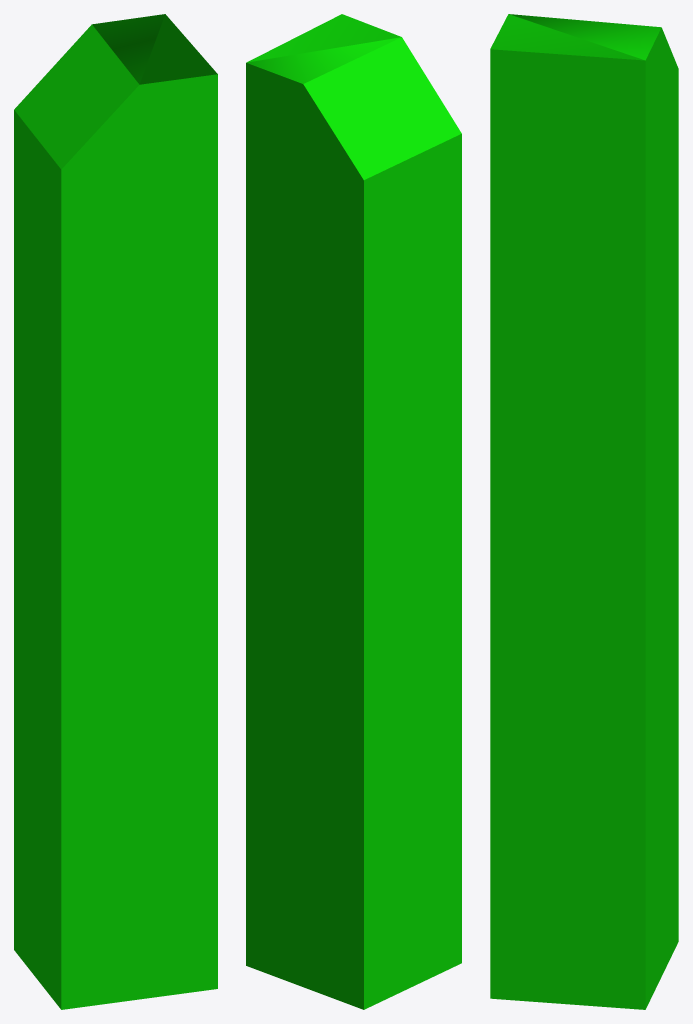
3 renders of one model, left to right at view 1: azimuth 30°, elevation 25°; view 2: azimuth 150°, elevation 25°; view 3: azimuth 270°, elevation 25°, orthographic. The views are drawn at different scales.
Visible parts, largest first — view 1: Plane.023; view 2: Plane.023; view 3: Plane.023.
Part boxes in pixels (<box>): Plane.023: <box>14,14,217,1009</box>; Plane.023: <box>246,14,461,1009</box>; Plane.023: <box>490,14,678,1009</box>.
Size of the model in its own units: 156 by 844 by 152.
